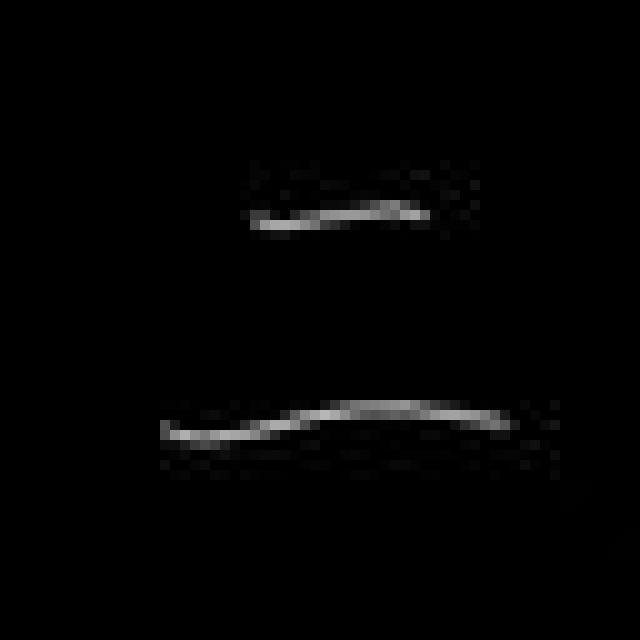2 -two-: (142, 188, 520, 459)
